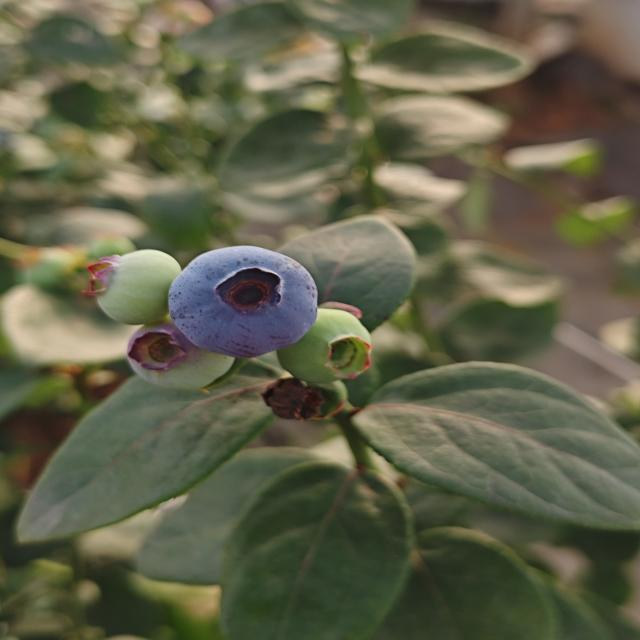ripe: (166, 243, 320, 359)
